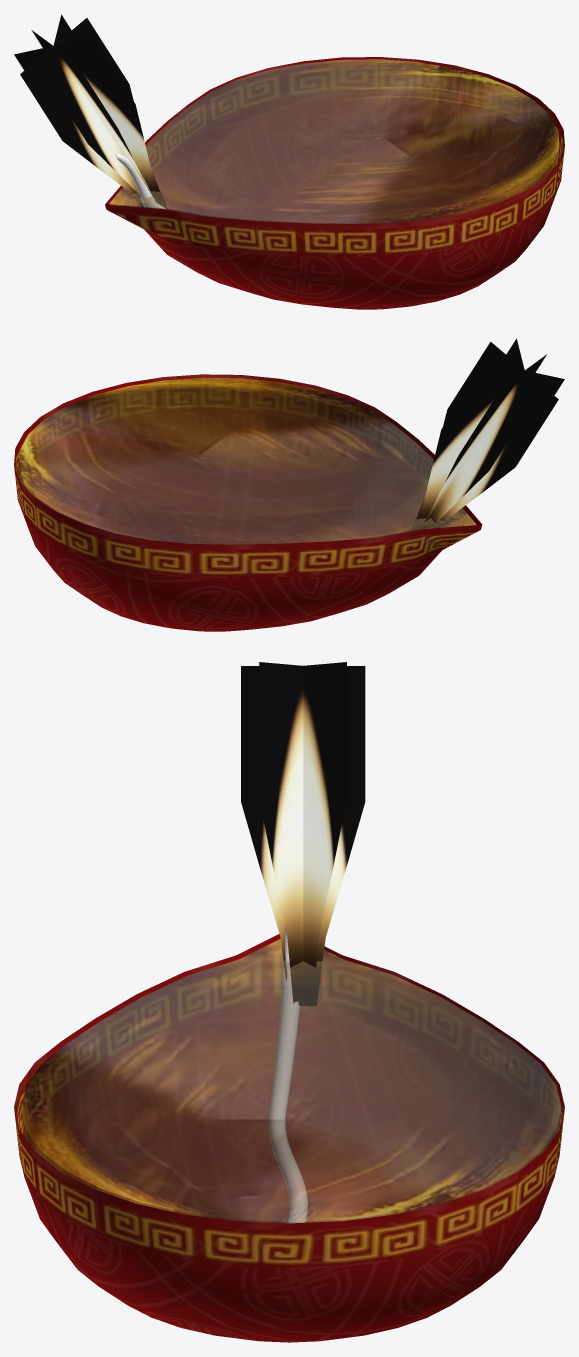
Rendered from diya.glb.
3 views of the same model, one above another, from view 1: azimuth 30°, elevation 25°; view 2: azimuth 150°, elevation 25°; view 3: azimuth 270°, elevation 25° (orthographic). The views are drawn at different scales.
Visible parts, largest first — view 1: Sphere, Sphere.001, Flame.003, BezierCurve; view 2: Sphere, Sphere.001, Flame.003; view 3: Sphere, Sphere.001, Flame.003, BezierCurve.
Part boxes in pixels (x1,y1,x2,y2): Sphere: [105, 57, 564, 309]; Sphere.001: [109, 59, 559, 223]; Flame.003: [14, 14, 167, 209]; BezierCurve: [115, 153, 166, 209]; Sphere: [14, 374, 482, 631]; Sphere.001: [18, 377, 476, 544]; Flame.003: [410, 338, 564, 530]; Sphere: [14, 934, 564, 1342]; Sphere.001: [21, 939, 561, 1223]; Flame.003: [241, 662, 365, 1006]; BezierCurve: [269, 928, 307, 1222].
Size of what is drawn, in the model's own units: 10.26 by 6.14 by 6.85.
4 materials, 3 textured.
